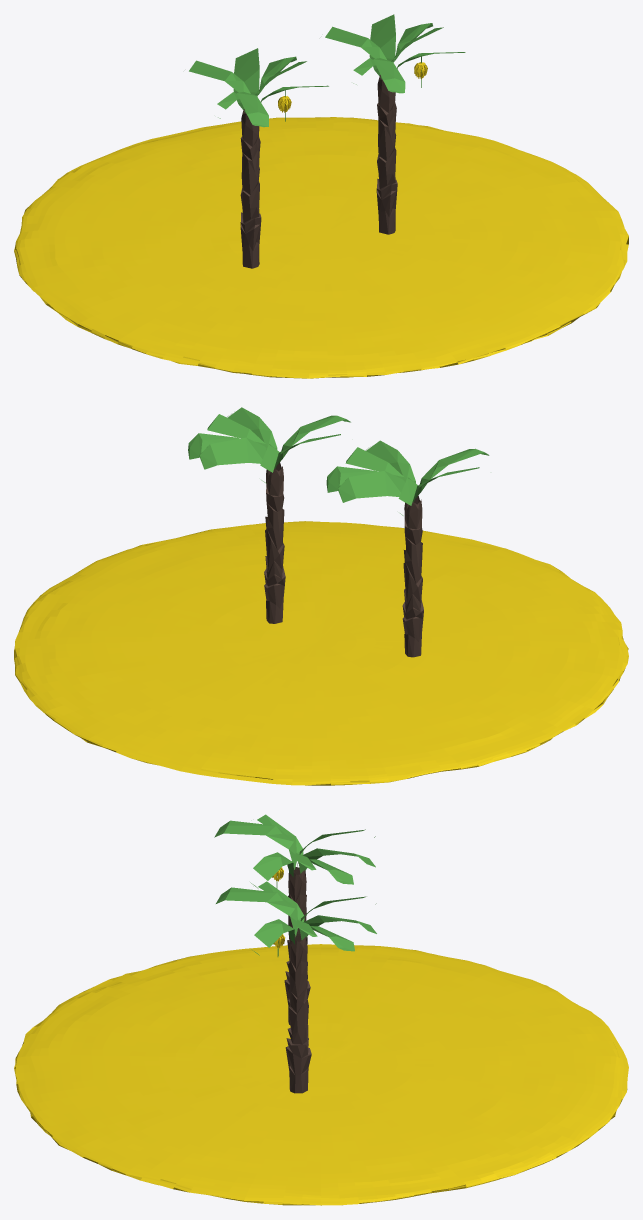
File: insel.fbx
The picture shows the model from 3 angles, top to bottom: view 1: azimuth 30°, elevation 25°; view 2: azimuth 150°, elevation 25°; view 3: azimuth 270°, elevation 25°; orthographic projection.
Parts seen in each view (by area): view 1: Landschaft, Loft_7, Loft_7_4, Zylinder_6, Zylinder; view 2: Landschaft, Loft_7, Loft_7_4, Zylinder_6, Zylinder; view 3: Landschaft, Loft_7_4, Loft_7, Zylinder, Zylinder_6.
Boxes of the visible parts, left/top/right/bottom form: Landschaft: left=14, top=117, right=628, bottom=378; Loft_7: left=325, top=14, right=465, bottom=93; Loft_7_4: left=189, top=48, right=328, bottom=127; Zylinder_6: left=240, top=109, right=261, bottom=268; Zylinder: left=376, top=75, right=397, bottom=234; Landschaft: left=14, top=521, right=628, bottom=785; Loft_7: left=188, top=407, right=350, bottom=483; Loft_7_4: left=326, top=440, right=489, bottom=515; Zylinder_6: left=402, top=495, right=423, bottom=657; Zylinder: left=264, top=462, right=285, bottom=623; Landschaft: left=14, top=944, right=628, bottom=1205; Loft_7_4: left=214, top=814, right=375, bottom=888; Loft_7: left=216, top=881, right=376, bottom=955; Zylinder: left=285, top=933, right=311, bottom=1093; Zylinder_6: left=284, top=867, right=310, bottom=1024.
Size of the model in its own units: 3914 by 1506 by 3910.
Materials: 3 (3 with a texture image).
